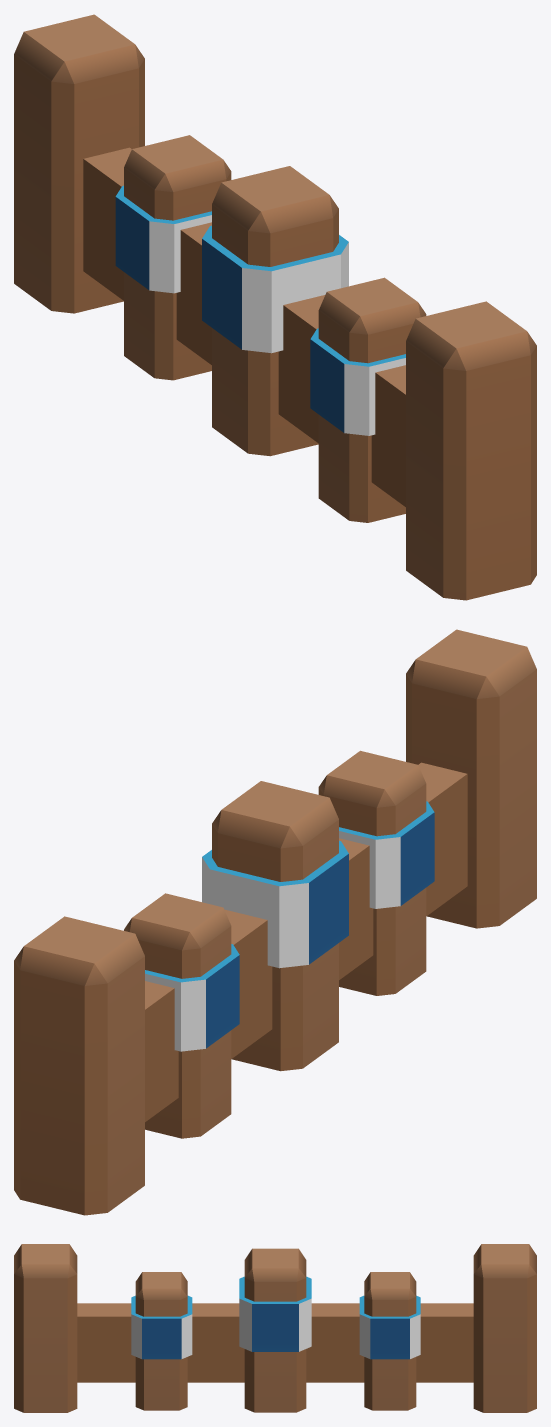
File: Wall_Lv5_2.fbx
3 renders of one model, top to bottom at view 1: azimuth 30°, elevation 25°; view 2: azimuth 150°, elevation 25°; view 3: azimuth 270°, elevation 25°, orthographic. The views are drawn at different scales.
Visible parts, largest first — view 1: Wall; view 2: Wall; view 3: Wall.
Part boxes in pixels (left/top/right/bottom): Wall: left=14, top=14, right=536, bottom=600; Wall: left=14, top=629, right=536, bottom=1215; Wall: left=14, top=1244, right=536, bottom=1412.
Size of the model in its own units: 0.2098 by 0.465 by 1.52.
